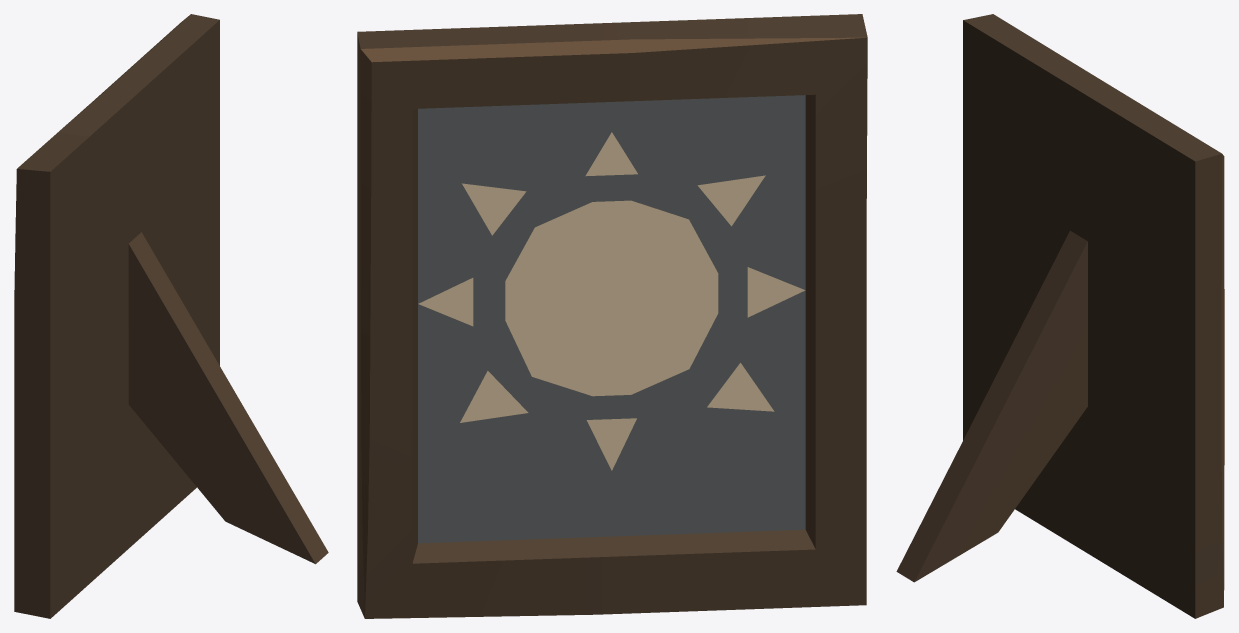
Rendered from PictureFrame.fbx.
3 renders of one model, left to right at view 1: azimuth 30°, elevation 25°; view 2: azimuth 150°, elevation 25°; view 3: azimuth 270°, elevation 25°, orthographic. The views are drawn at different scales.
Parts seen in each view (by area): view 1: pCube352; view 2: pCube352; view 3: pCube352.
Boxes of the visible parts, box(x1,y1,x2,y2) form: pCube352: box(14, 14, 328, 618); pCube352: box(357, 14, 867, 618); pCube352: box(896, 14, 1224, 618).
Size of the model in its own units: 4.97 by 7.01 by 4.56.
1 material, 1 textured.
